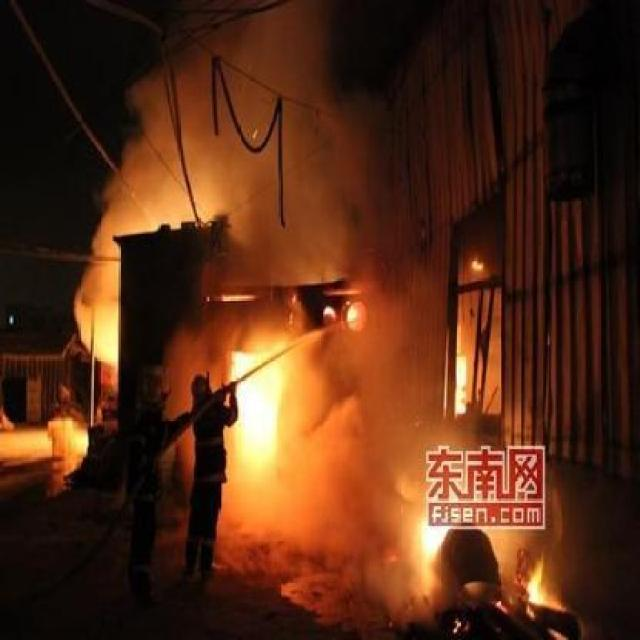Fire: (226, 349, 282, 471), (524, 556, 560, 626), (418, 514, 449, 568), (452, 350, 472, 419)
